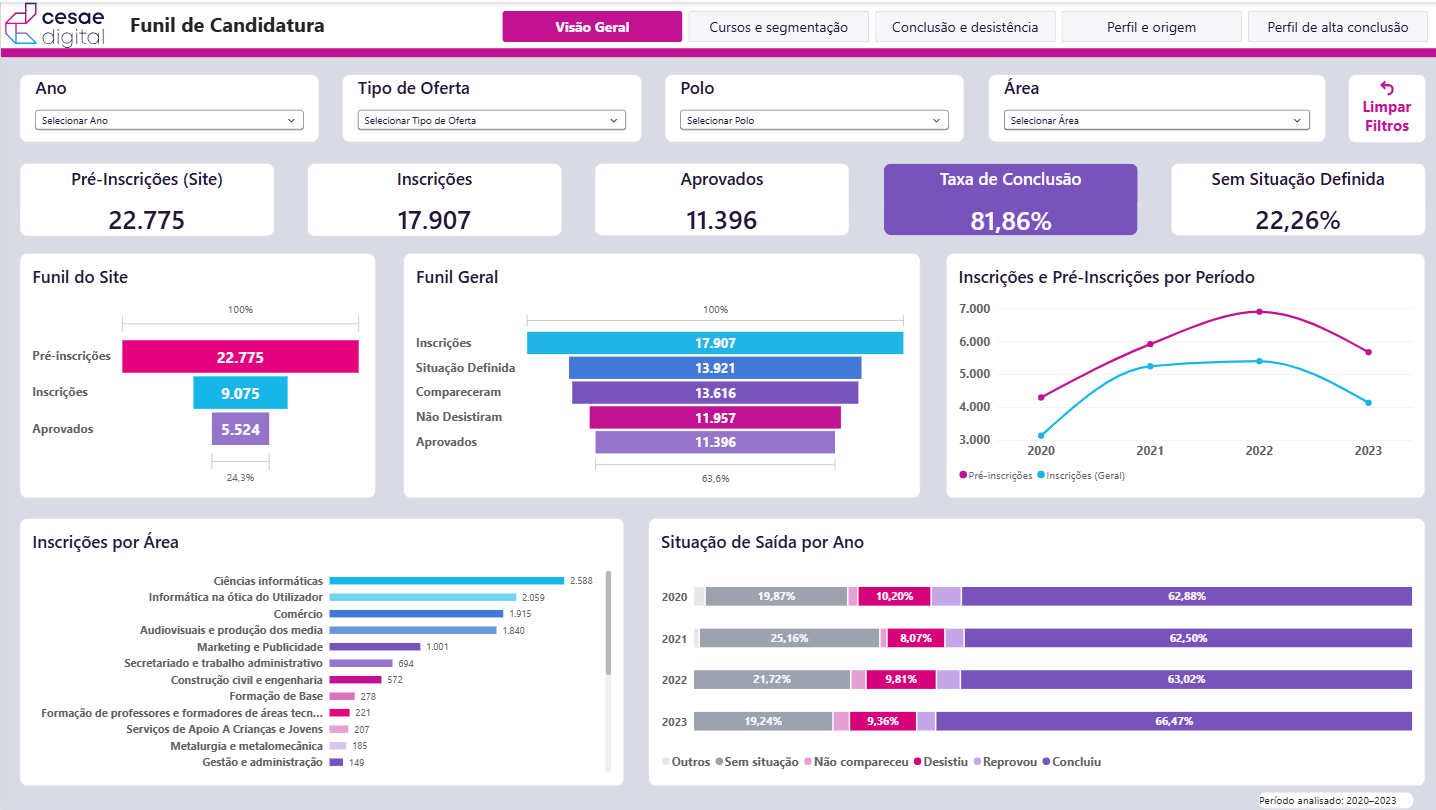

This screenshot's page, from the dashboard's own definition file:
{"tool":"powerbi","page":{"name":"Visão Geral","canvas":[1920,1080],"ordinal":0},"visuals":[{"type":"shape","box":[0,0,1920,72],"z":0},{"type":"image","box":[0,0,144,62],"z":1000},{"type":"shape","box":[0,62,1920,12],"z":2000},{"type":"textbox","box":[172,12,318,42],"z":3000},{"type":"pageNavigator","box":[670,12,1240,42],"z":4000},{"type":"cardVisual","title":"Pré-Inscrições (Site)","fields":{"Data":["_Medidas.Pré-inscrições"]},"box":[25,215,340,97.5],"z":5000},{"type":"cardVisual","title":"Aprovados ","fields":{"Data":["_Medidas.Aprovados Geral"]},"box":[793.8,215.5,340,97],"z":6000},{"type":"cardVisual","title":"Inscrições","fields":{"Data":["_Medidas.Total Inscritos"]},"box":[409.4,215,340,97.5],"z":7000},{"type":"cardVisual","title":"Taxa de Conclusão ","fields":{"Data":["_Medidas.Taxa de Conclusão Geral"]},"box":[1178.1,215.5,340,97],"z":8000},{"type":"cardVisual","title":"Sem Situação Definida","fields":{"Data":["_Medidas.% Sem Situação Definida Geral"]},"box":[1562.5,215.5,340,97],"z":9000},{"type":"funnel","title":"Funil do Site","fields":{"Y":["_Medidas.Pré-inscrições","_Medidas.Pré-inscrições convertidas","_Medidas.Aprovados vindos do site"]},"box":[25,335,475,327.5],"z":10000},{"type":"funnel","title":"Funil Geral","fields":{"Y":["_Medidas.Total Inscritos","_Medidas.Situação Definida Geral","_Medidas.Compareceram","_Medidas.Não Desistiram Geral","_Medidas.Aprovados Geral"]},"box":[537.5,335,690,327.5],"z":11000},{"type":"lineChart","title":"Inscrições e Pré-Inscrições por Período","fields":{"Category":["Calendario.Ano"],"Y":["_Medidas.Pré-inscrições","_Medidas.Total Inscritos"]},"box":[1262.5,335,640,327.5],"z":12000},{"type":"hundredPercentStackedBarChart","title":"Situação de Saída por Ano ","fields":{"Category":["Calendario.Ano"],"Series":["AuxSitSaida.Grupo"],"Y":["_Medidas.Total Inscritos"]},"box":[865,690,1037.5,357.5],"z":13000},{"type":"clusteredBarChart","title":"Inscrições por Área","fields":{"Category":["AuxArea.Designacao"],"Y":["_Medidas.Total Inscritos"]},"box":[25,690,807.5,357.5],"z":14000},{"type":"textbox","box":[1680,1055,207.5,22.5],"z":15000},{"type":"listSlicer","fields":{"Values":["Calendario.Ano"]},"box":[25,97.1,400,90],"z":16000},{"type":"listSlicer","fields":{"Values":["AuxArea.Designacao"]},"box":[1318.5,97.1,450,90],"z":17000},{"type":"listSlicer","fields":{"Values":["Accao.TipoOferta"]},"box":[456.2,97.1,400,90],"z":18000},{"type":"actionButton","box":[1799.6,97.1,102.9,91.4],"z":19000},{"type":"listSlicer","fields":{"Values":["CentroPolo.Designacao_Padronizada"]},"box":[887.3,97.1,400,90],"z":20000}]}

Visuals, with their boxes in screenshot pixels (x1, y1, x2, y2), scaled from the page's 1920x1080 canvas onto the 1436x810 screenshot:
shape: box(0, 0, 1435, 54)
image: box(0, 0, 108, 46)
shape: box(0, 46, 1435, 56)
textbox: box(129, 9, 366, 40)
pageNavigator: box(501, 9, 1429, 40)
"Pré-Inscrições (Site)" cardVisual: box(19, 161, 273, 234)
"Aprovados " cardVisual: box(594, 162, 848, 234)
"Inscrições" cardVisual: box(306, 161, 560, 234)
"Taxa de Conclusão " cardVisual: box(881, 162, 1135, 234)
"Sem Situação Definida" cardVisual: box(1169, 162, 1423, 234)
"Funil do Site" funnel: box(19, 251, 374, 497)
"Funil Geral" funnel: box(402, 251, 918, 497)
"Inscrições e Pré-Inscrições por Período" lineChart: box(944, 251, 1423, 497)
"Situação de Saída por Ano " hundredPercentStackedBarChart: box(647, 518, 1423, 786)
"Inscrições por Área" clusteredBarChart: box(19, 518, 623, 786)
textbox: box(1256, 791, 1412, 808)
listSlicer - Calendario.Ano: box(19, 73, 318, 140)
listSlicer - AuxArea.Designacao: box(986, 73, 1323, 140)
listSlicer - Accao.TipoOferta: box(341, 73, 640, 140)
actionButton: box(1346, 73, 1423, 141)
listSlicer - CentroPolo.Designacao_Padronizada: box(664, 73, 963, 140)
